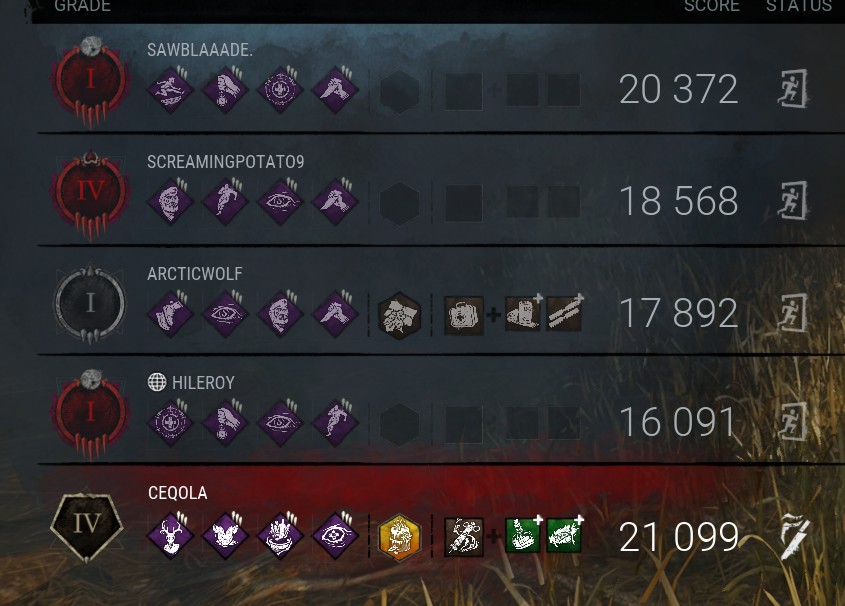a_nurses_calling: (312, 510, 360, 558)
bbq_and_chilli: (256, 510, 304, 558)
borrowed_time: (200, 65, 248, 113), (201, 398, 249, 446)
circle_of_healing: (257, 66, 305, 114), (146, 397, 194, 445)
dead_hard: (202, 177, 250, 225), (311, 398, 359, 446)
decisive_strike: (312, 66, 360, 114), (311, 175, 359, 223), (312, 290, 360, 338)
deerstalker: (146, 511, 194, 559)
kindred: (257, 178, 305, 226), (203, 288, 251, 336), (257, 398, 305, 446)
lithe: (146, 65, 194, 113)
sloppy_butcher: (202, 510, 250, 558)
sprint_burst: (146, 289, 194, 337)
unbreakable: (146, 178, 194, 226), (255, 289, 303, 337)
